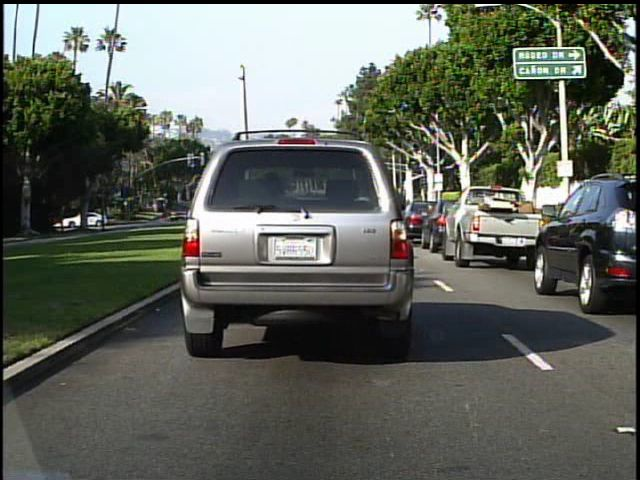person: (80, 207, 94, 229)
